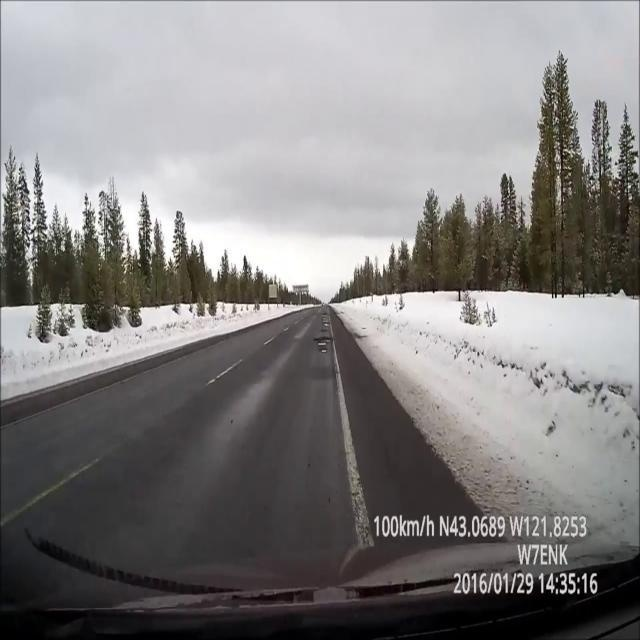pothole: (308, 332, 338, 356), (318, 306, 332, 332)
